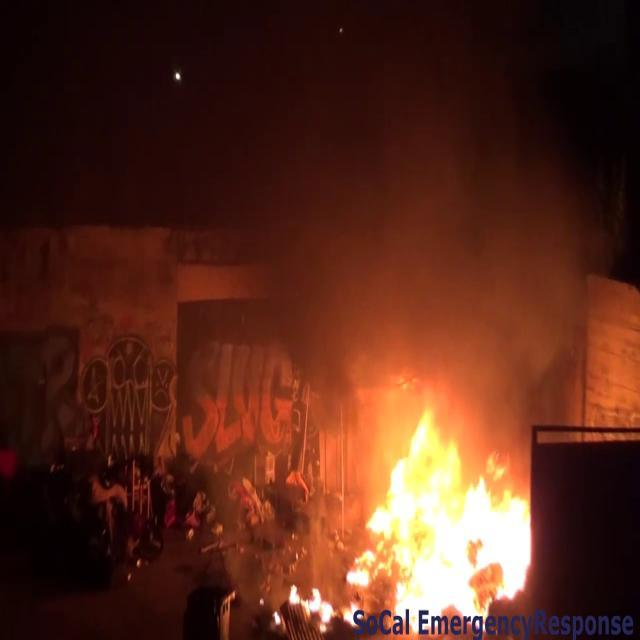Fire: (314, 385, 536, 631)
Smoke: (356, 12, 638, 404)
